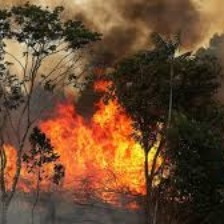incendio: (1, 65, 181, 207)
